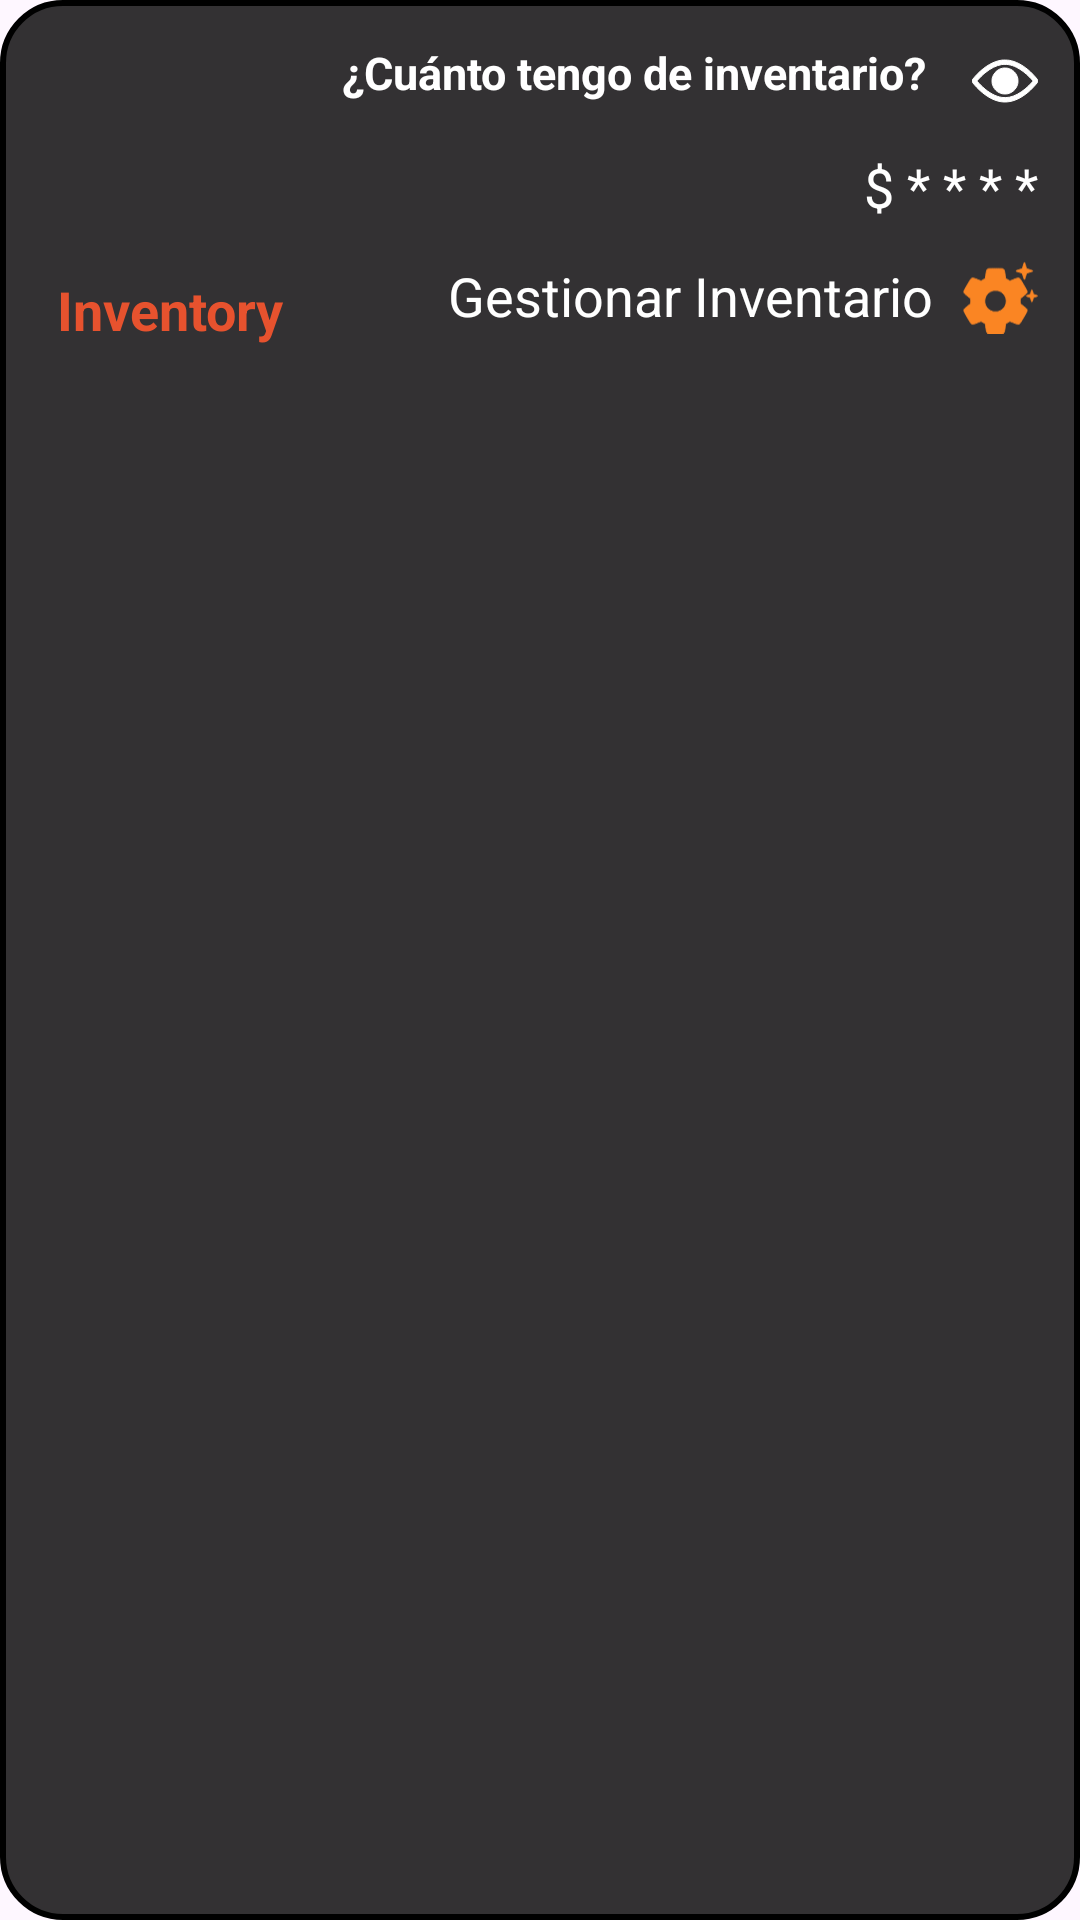

Icons on this 1080 × 1920 Android screen, each with its box as [left=x1, top=y1, right=x2, bottom=y2]:
eye widget: [left=972, top=59, right=1038, bottom=103]
